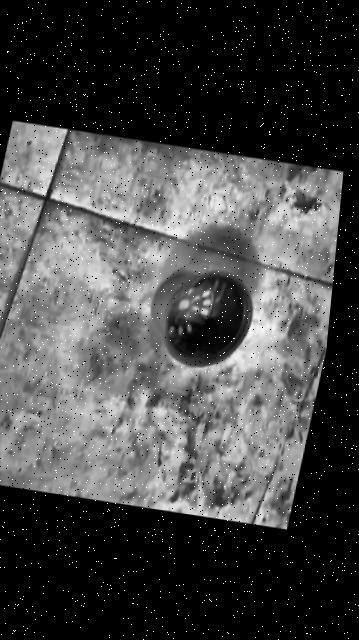pot: (139, 263, 259, 373)
